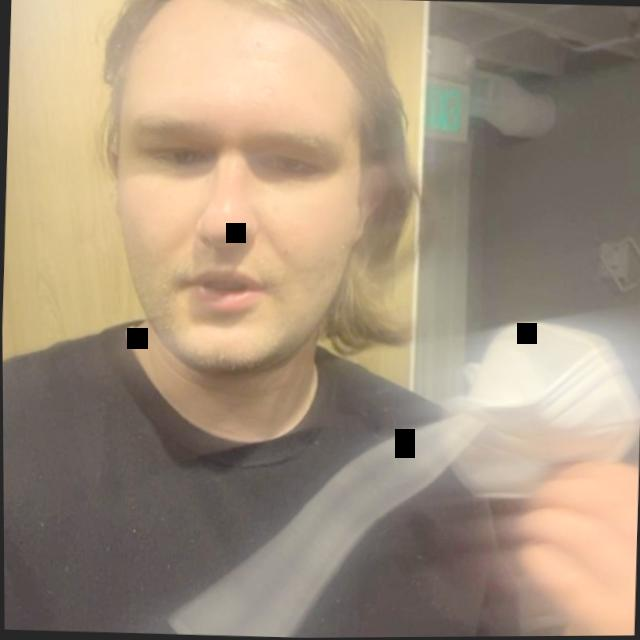NO-Mask: (87, 0, 462, 360)
